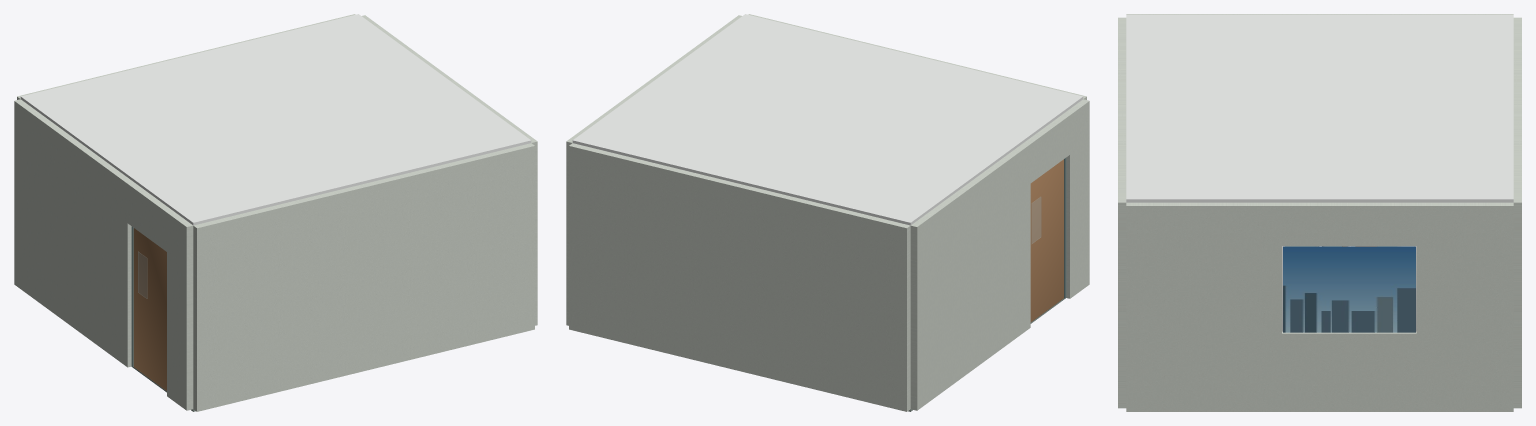
3 renders of one model, left to right at view 1: azimuth 30°, elevation 25°; view 2: azimuth 150°, elevation 25°; view 3: azimuth 270°, elevation 25°, orthographic. The views are drawn at different scales.
Visible parts, largest first — view 1: Wall_Front, Ceiling, Wall_Left, Door, Wall_Right, Wall_Back; view 2: Wall_Back, Ceiling, Wall_Left, Door, Wall_Right, Wall_Front; view 3: Ceiling, Wall_Right, Window_View, Wall_Back, Wall_Front, Wall_Left.
Part boxes in pixels (bbox=[...]): Wall_Front: bbox=[193, 143, 534, 411]; Ceiling: bbox=[20, 14, 531, 225]; Wall_Left: bbox=[14, 99, 193, 410]; Door: bbox=[133, 228, 166, 390]; Wall_Right: bbox=[362, 15, 537, 325]; Wall_Back: bbox=[17, 14, 355, 99]; Wall_Back: bbox=[569, 143, 910, 411]; Ceiling: bbox=[572, 14, 1083, 225]; Wall_Left: bbox=[910, 99, 1089, 410]; Door: bbox=[1030, 159, 1063, 322]; Wall_Right: bbox=[566, 15, 741, 325]; Wall_Front: bbox=[748, 14, 1086, 99]; Ceiling: bbox=[1126, 14, 1513, 202]; Wall_Right: bbox=[1126, 202, 1513, 411]; Window_View: bbox=[1283, 246, 1415, 332]; Wall_Back: bbox=[1513, 17, 1521, 408]; Wall_Front: bbox=[1118, 17, 1126, 408]; Wall_Left: bbox=[1126, 14, 1513, 14].
Size of the model in its own units: 5.4 by 2.78 by 4.8.
Materials: 144 (15 with a texture image).
